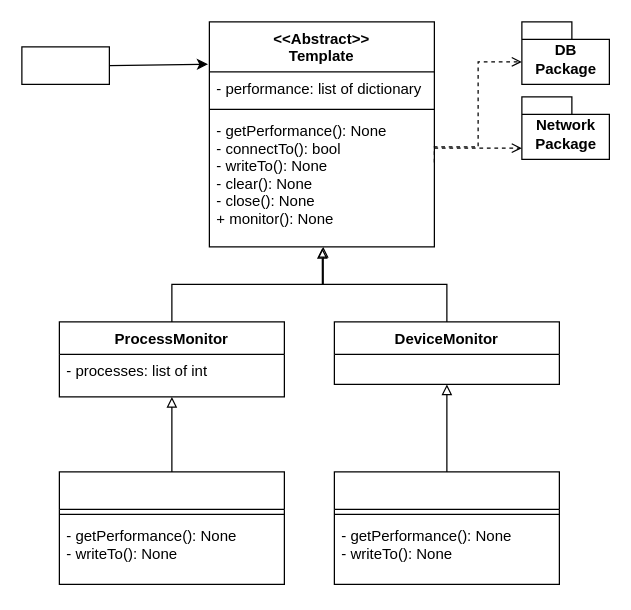
This 631x610 diagram has some shape labels left out. The shapes that lost their labels are listed below. From the top down, each one's box as (x1, y1, x2, y2) in pixels, then its label:
(21, 46, 109, 84): Client
(58, 471, 284, 584): CPUandMemoryByPM
(333, 471, 559, 584): CPUandMemoryByDM
